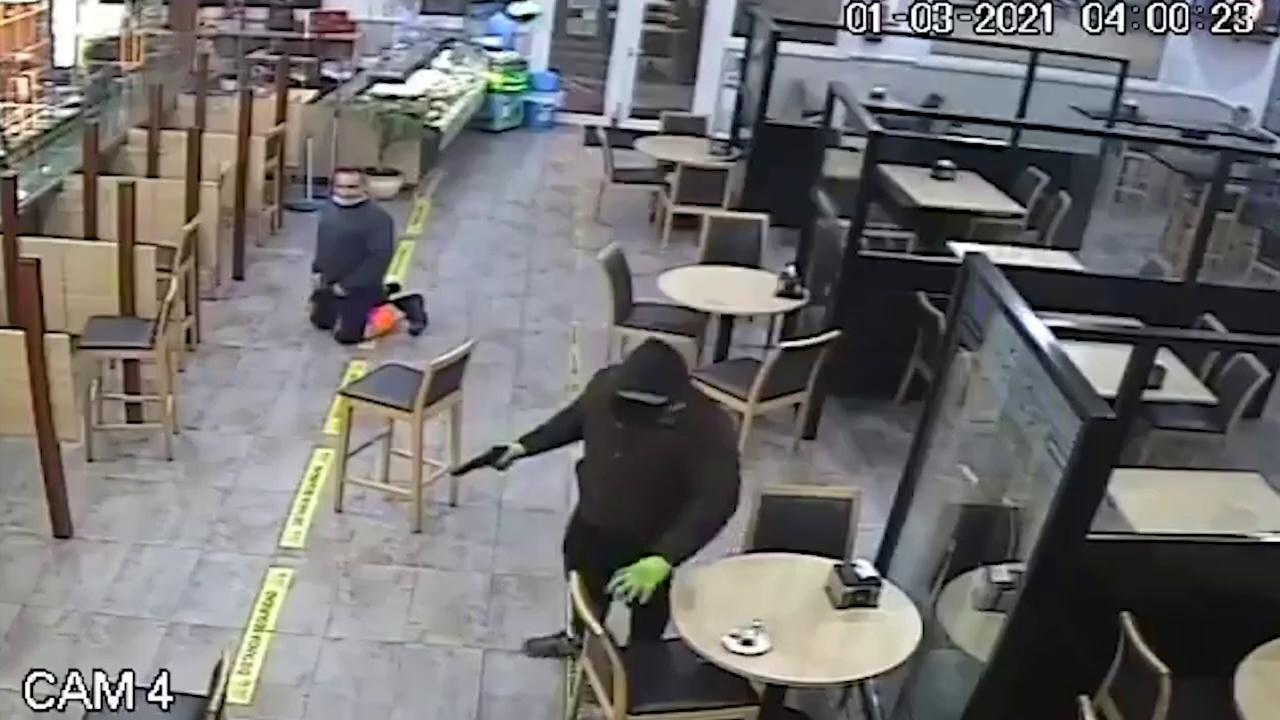Guns perspective: (427, 436, 534, 501)
